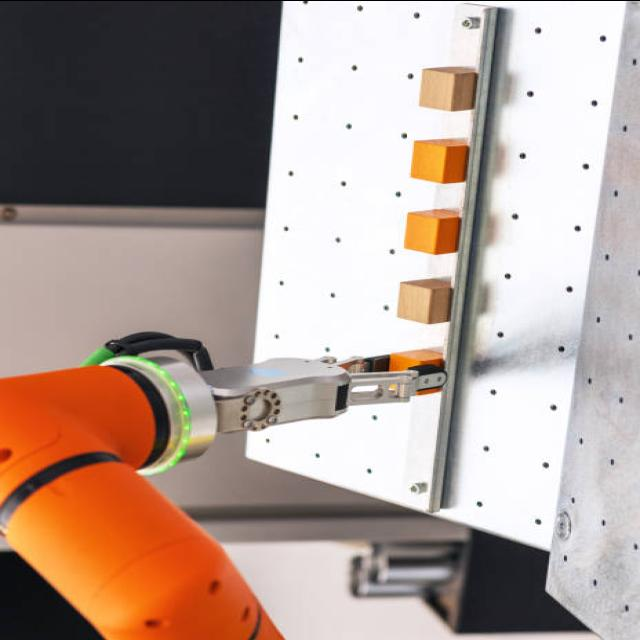Robotic-arm: (0, 337, 350, 640)
